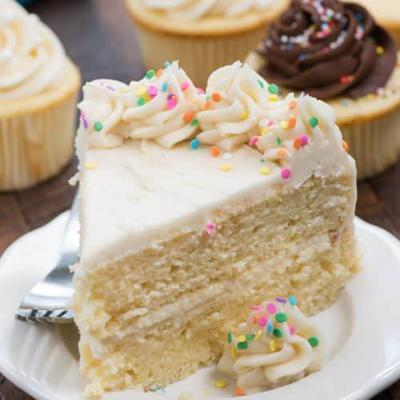cake: (54, 62, 367, 393)
